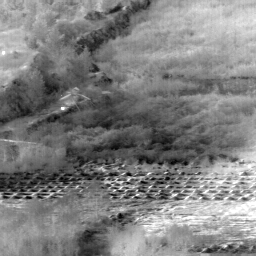aircraft: (62, 108, 64, 110)
